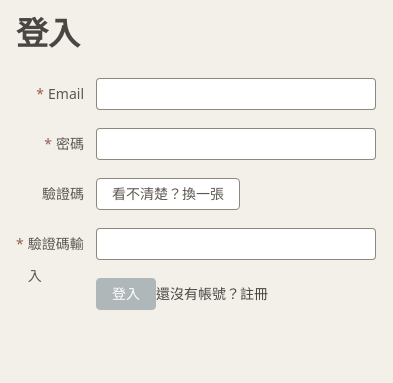
Test: LoginPage › LRL-009：登入因請求頻率限制被拒絕（429）時，顯示友善提示，不顯示後端原始 title 字串
The image size is (393, 383).
In the field next to "Email": (236, 94) [107,79,365,109], type "user@example.com"
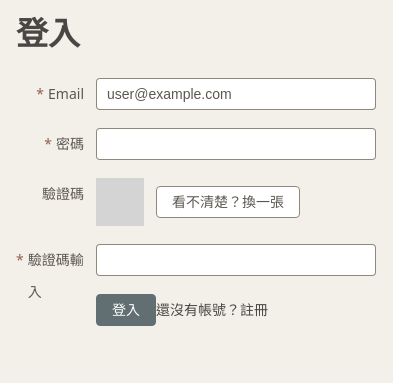
In the password field labelled "密碼": (236, 144) [107,129,365,159], type "Password123"
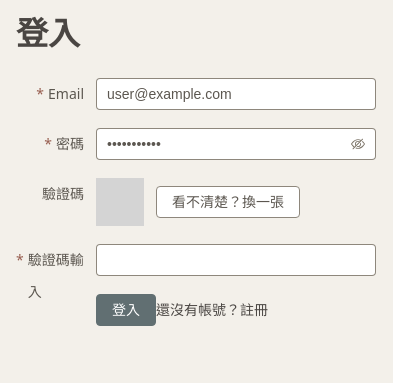
In the field labelled "驗證碼輸入": (236, 260) [107,245,365,275], type "TEST"
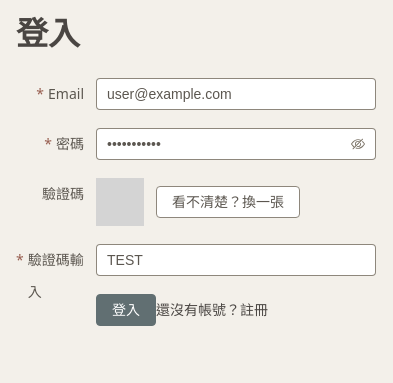
Submit the form, box [16,78,376,326]
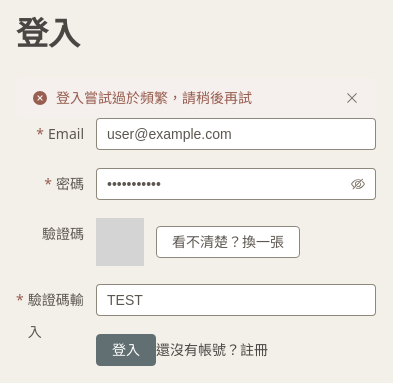
Now the text "登入嘗試過於頻繁，請稍後再試" is shown, box [56,86,252,110]
